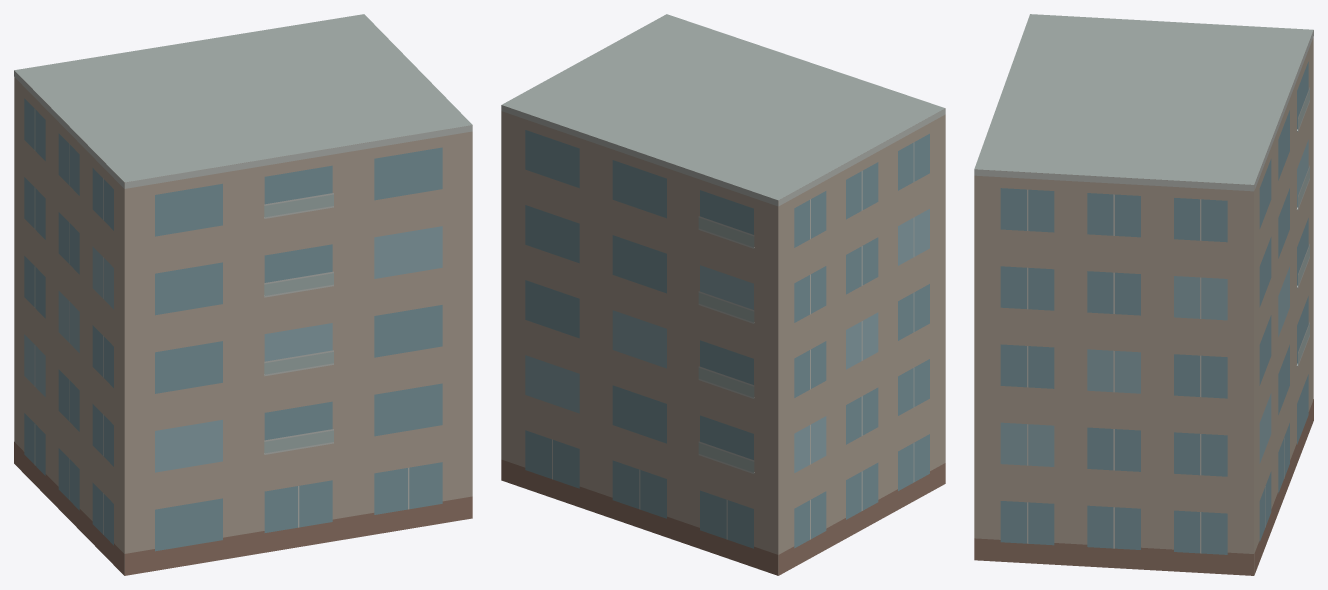
File: survey-upis-32990921.glb
The picture shows the model from 3 angles, left to right: view 1: azimuth 30°, elevation 25°; view 2: azimuth 150°, elevation 25°; view 3: azimuth 270°, elevation 25°; orthographic projection. The views are drawn at different scales.
Visible parts, largest first — view 1: survey-upis-32990921.tmp; view 2: survey-upis-32990921.tmp; view 3: survey-upis-32990921.tmp.
Boxes of the visible parts, box(x1,y1,x2,y2) form: survey-upis-32990921.tmp: box(14, 14, 472, 575); survey-upis-32990921.tmp: box(501, 14, 945, 575); survey-upis-32990921.tmp: box(974, 14, 1313, 575).
Size of the model in its own units: 13.98 by 14.9 by 11.74.
